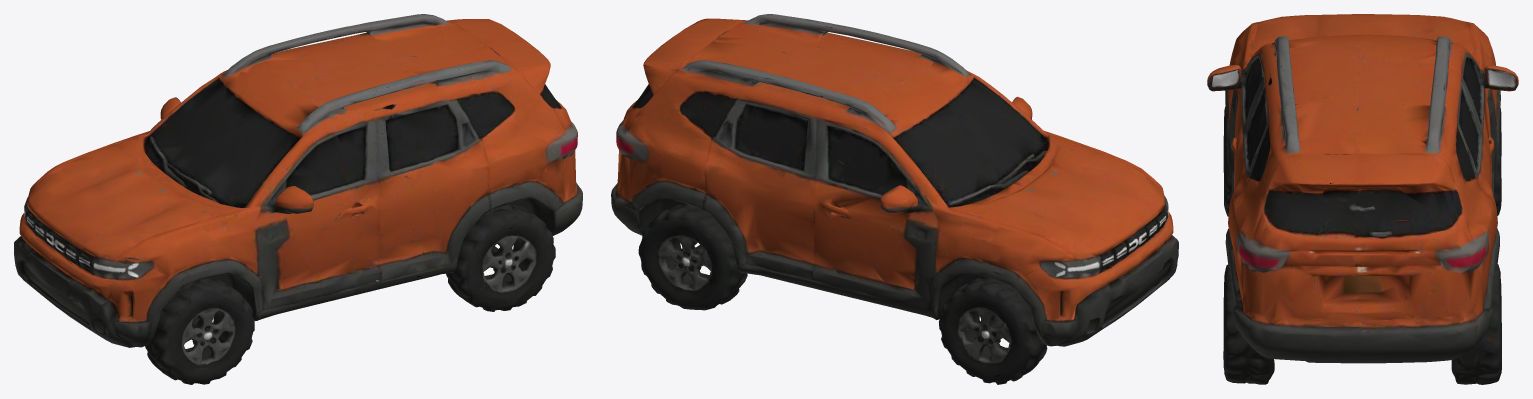
Rendered from a3D-car-dusty.glb.
3 renders of one model, left to right at view 1: azimuth 30°, elevation 25°; view 2: azimuth 150°, elevation 25°; view 3: azimuth 270°, elevation 25°, orthographic. The views are drawn at different scales.
Visible parts, largest first — view 1: geometry_0; view 2: geometry_0; view 3: geometry_0.
Part boxes in pixels (<box>): geometry_0: <box>14,14,582,384</box>; geometry_0: <box>611,14,1178,384</box>; geometry_0: <box>1207,14,1518,384</box>.
Size of the model in its own units: 1.9 by 0.848 by 0.9212.
Materials: 1 (1 with a texture image).
